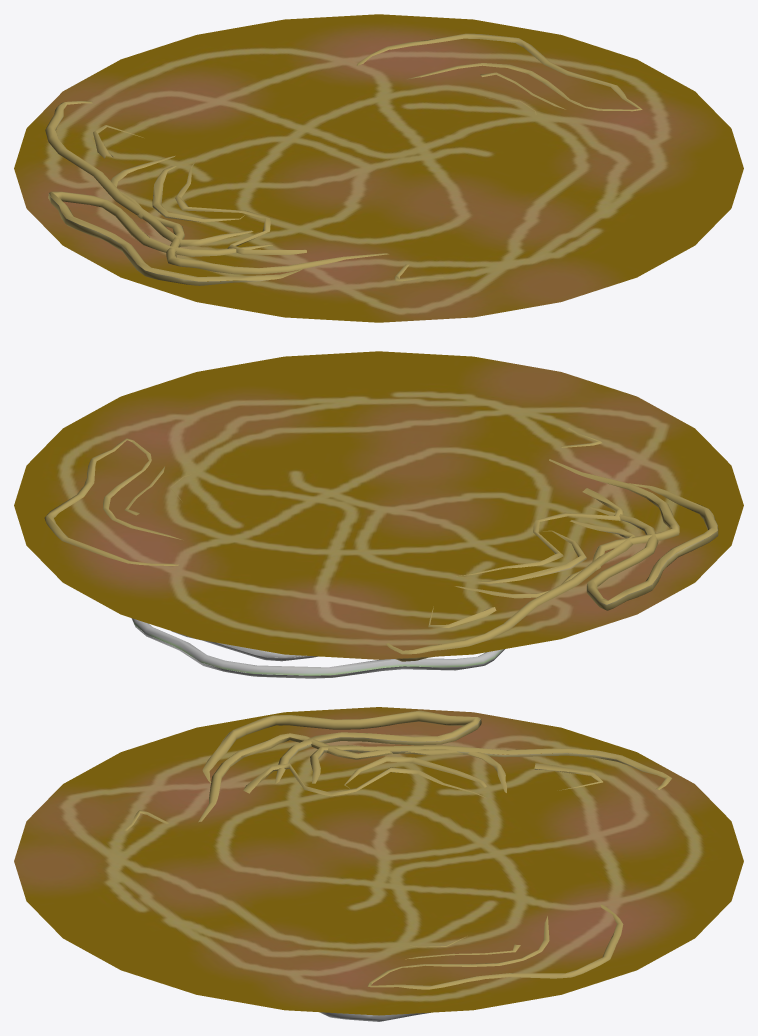
The model's file is ramen.obj.
3 renders of one model, top to bottom at view 1: azimuth 30°, elevation 25°; view 2: azimuth 150°, elevation 25°; view 3: azimuth 270°, elevation 25°, orthographic.
Parts seen in each view (by area): view 1: ramen; view 2: ramen; view 3: ramen.
Boxes of the visible parts, x1=… form: ramen: x1=14, y1=14, x2=743, y2=322; ramen: x1=14, y1=351, x2=743, y2=678; ramen: x1=14, y1=707, x2=743, y2=1021.
Size of the model in its own units: 50.5 by 3.58 by 50.5.
